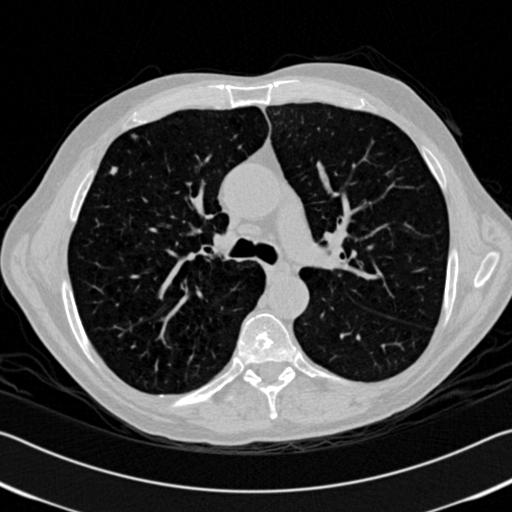nodule: (107, 164, 121, 178)
